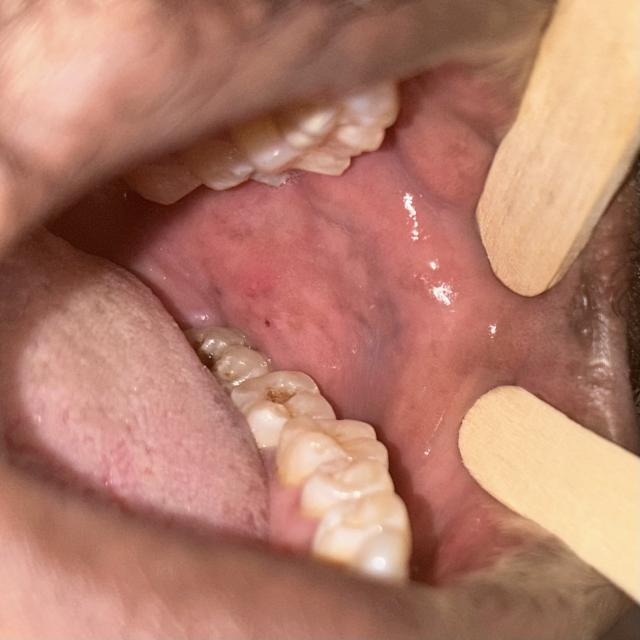leukoplakia-like-detection: (225, 182, 433, 404)
processing_area: (30, 81, 581, 588)
